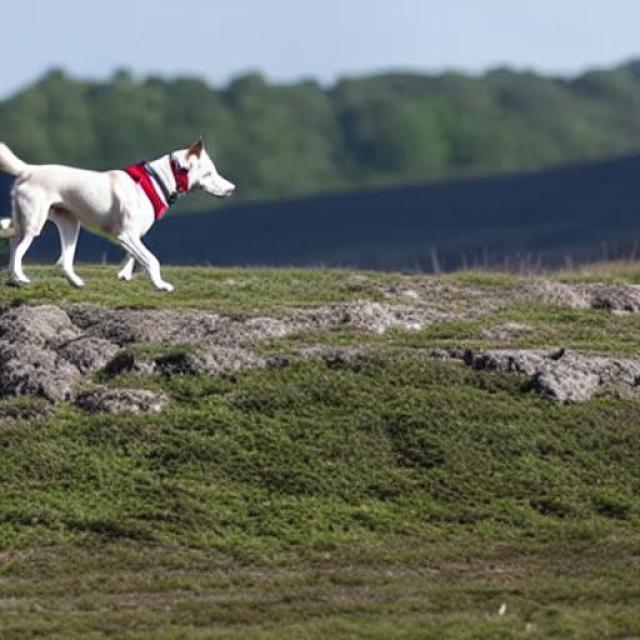Dog: (0, 135, 238, 293)
